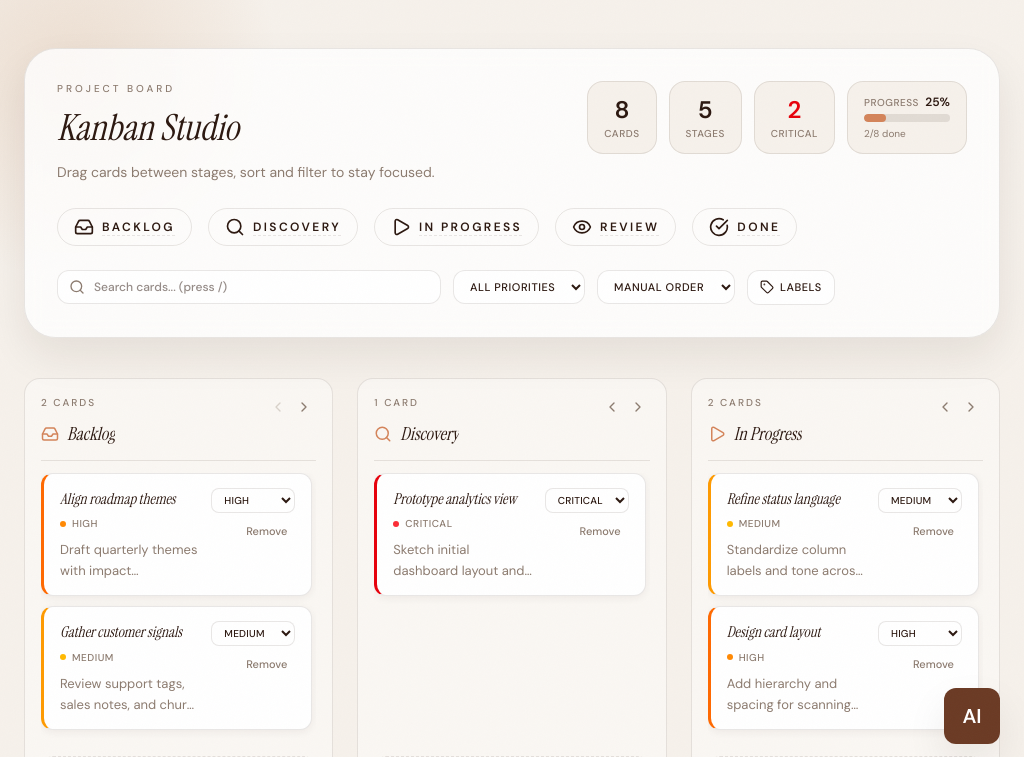
Test: KanbanBoard › applies ai board updates automatically
Check: the heading "Kanban Studio" is shown, box [57,104,239,151]
Click the button with test id "open-ai-chat" at (972, 716), box [944,688,1000,744]
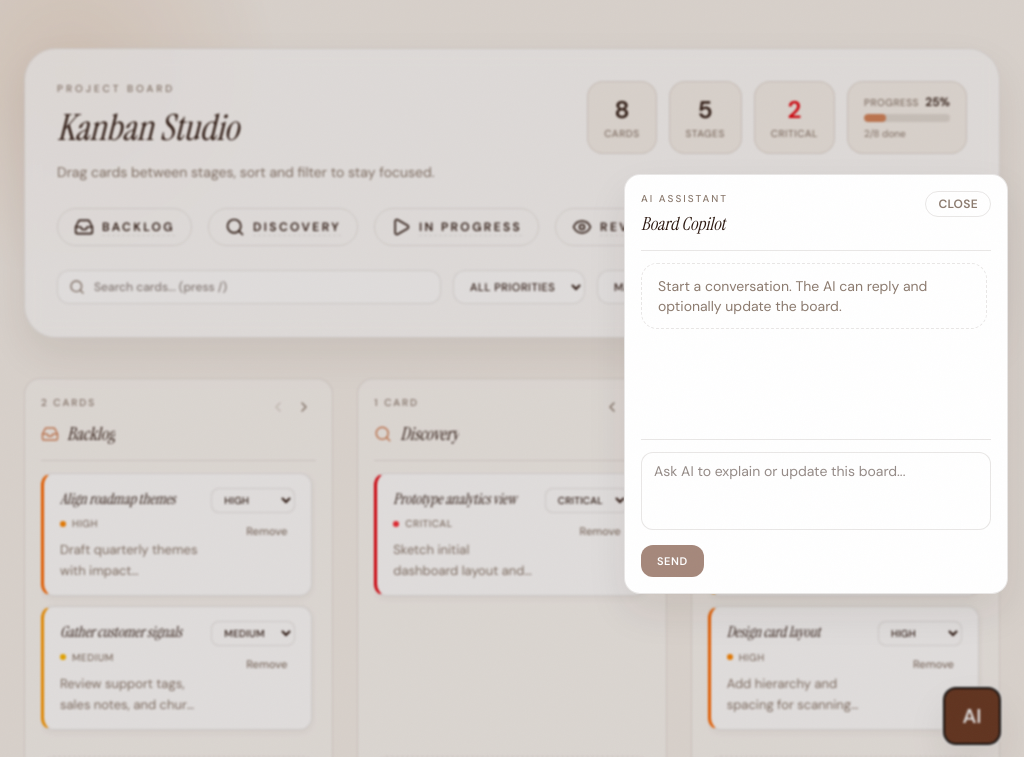
Type "Rename backlog" into the text box with placeholder "Ask AI to explain or update this board..." at (816, 490), box [641,452,991,530]
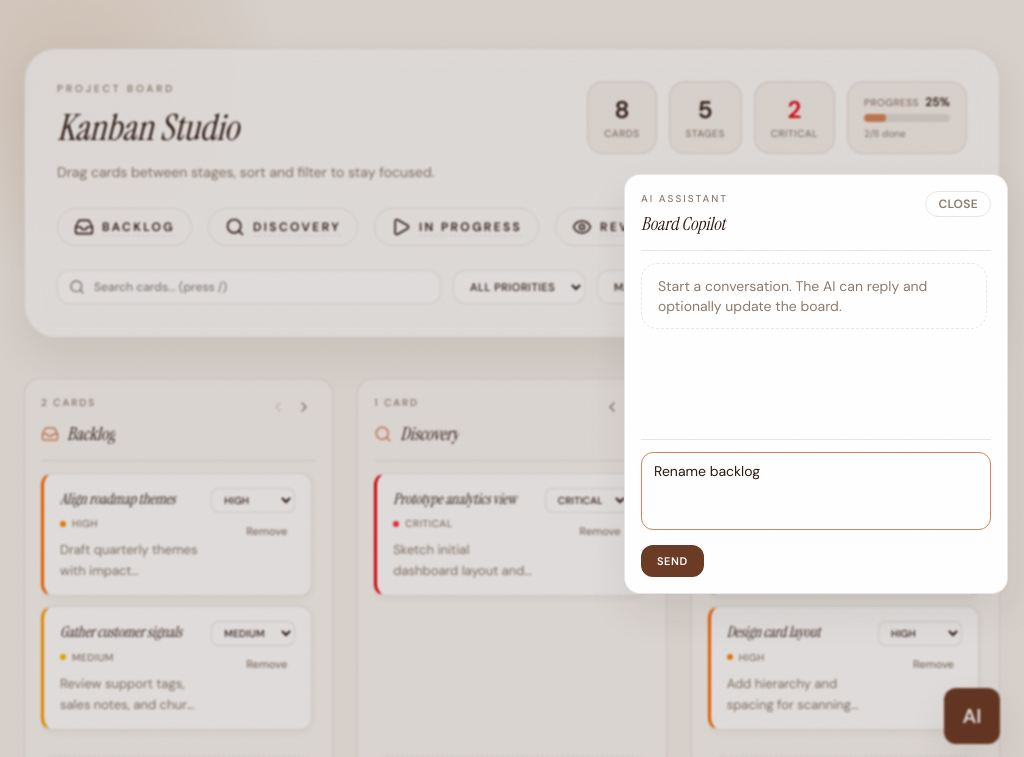
Click the button with test id "ai-chat-send" at (672, 561), box [641,544,704,577]
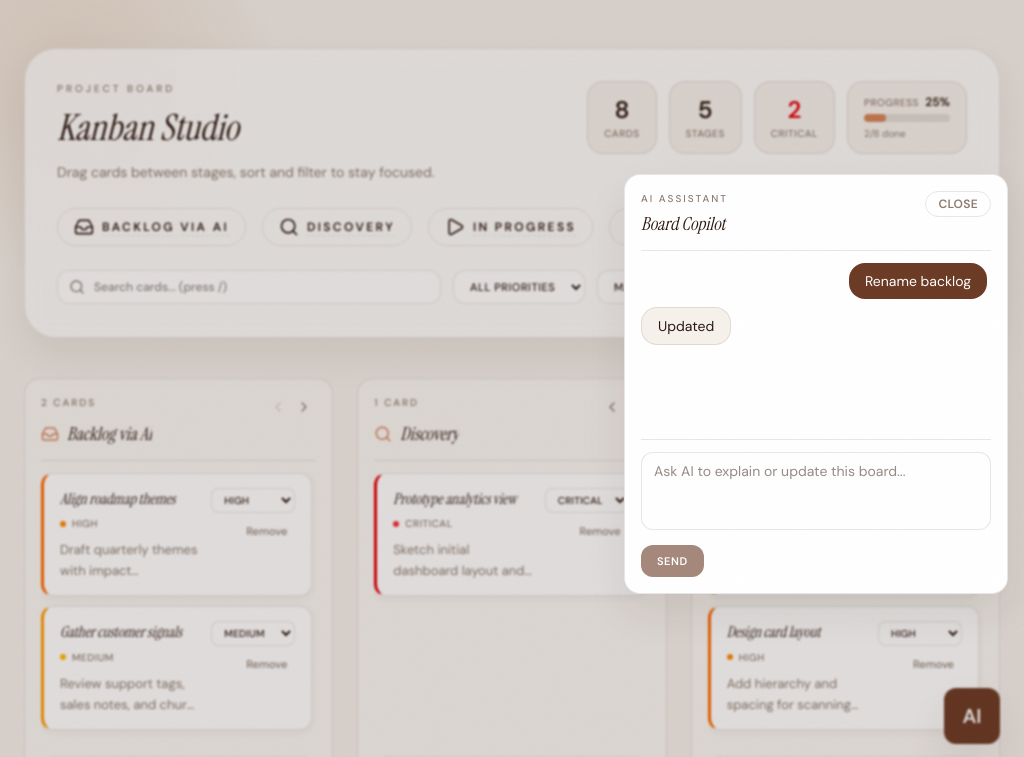
Check: the text "Backlog via AI" is shown, box [102,218,229,236]
